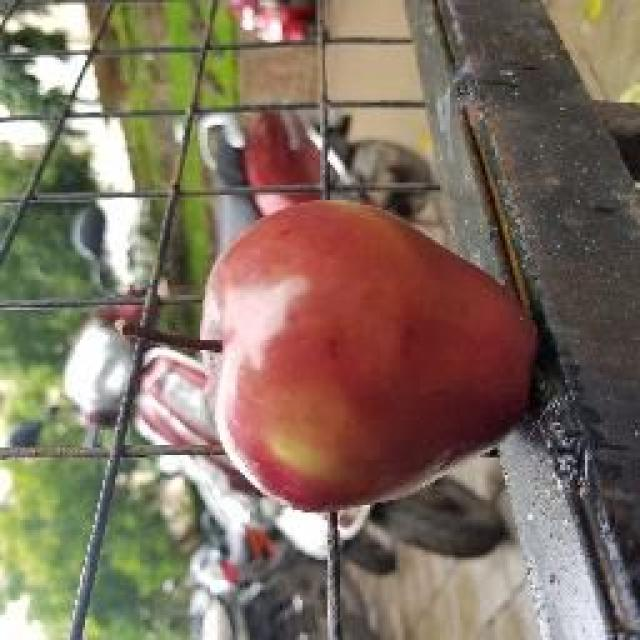Good_Apple: (200, 200, 540, 518)
